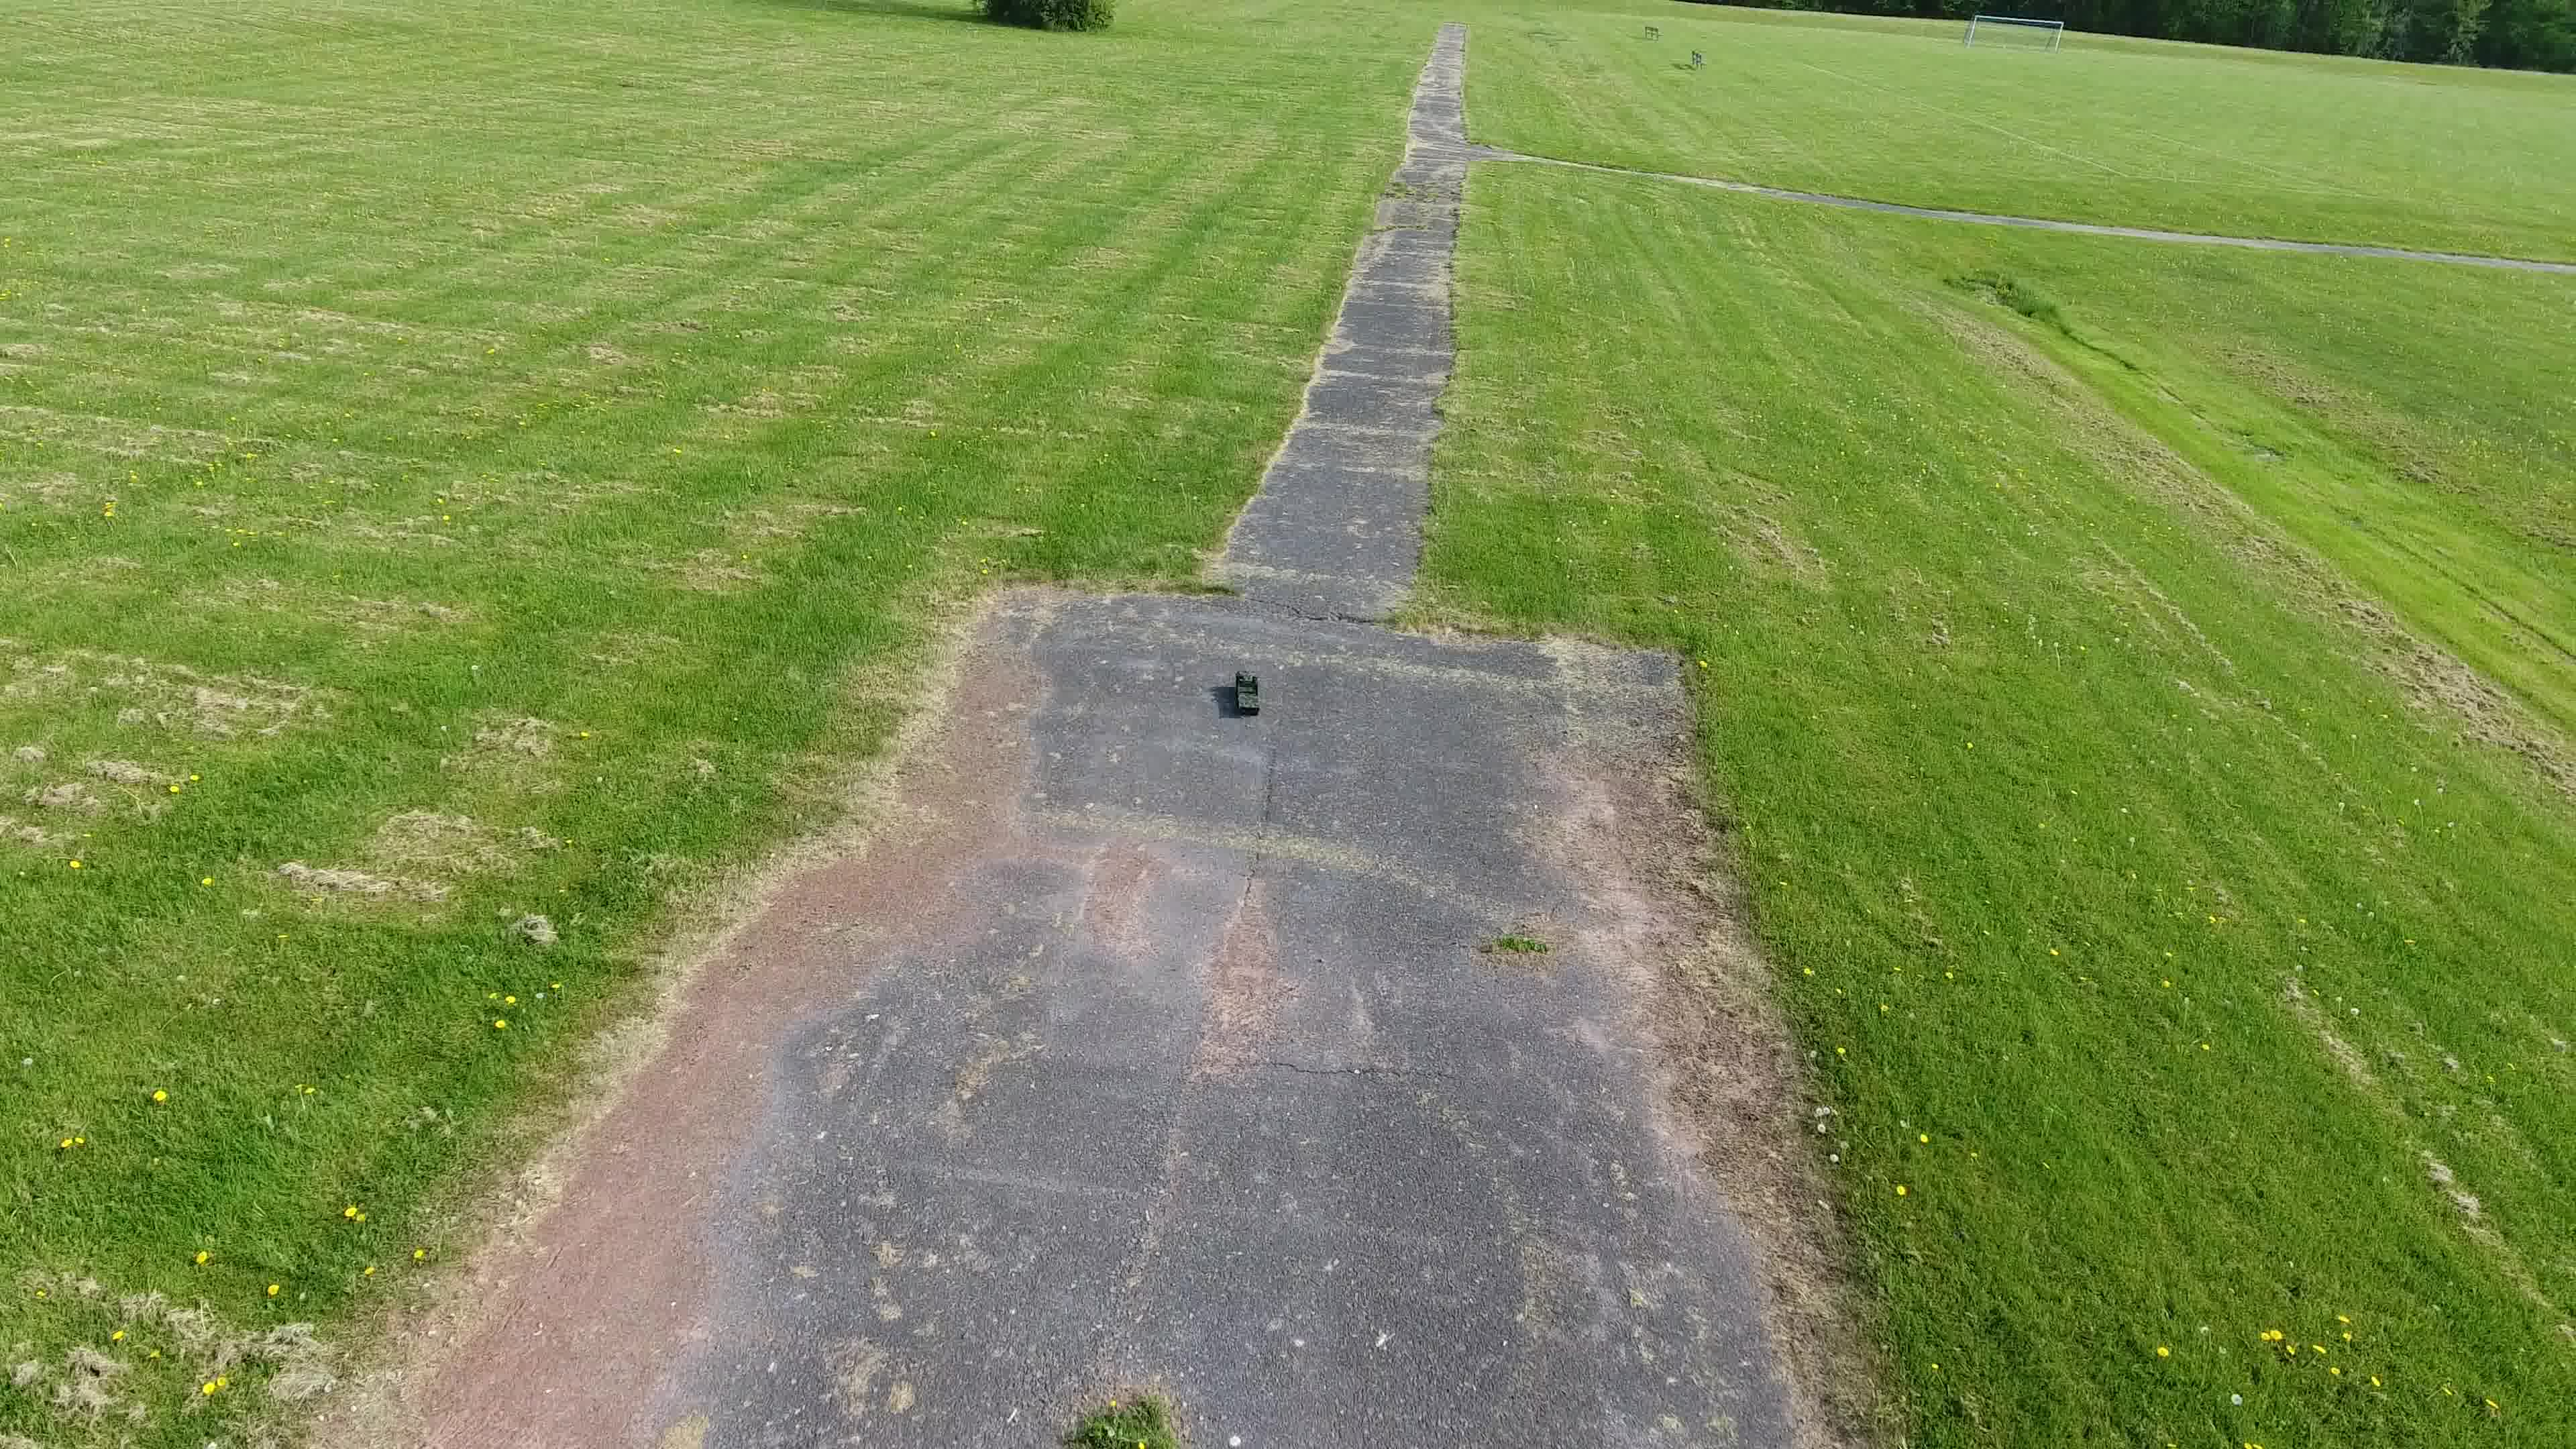transporter9_camo: (1233, 669, 1263, 718)
